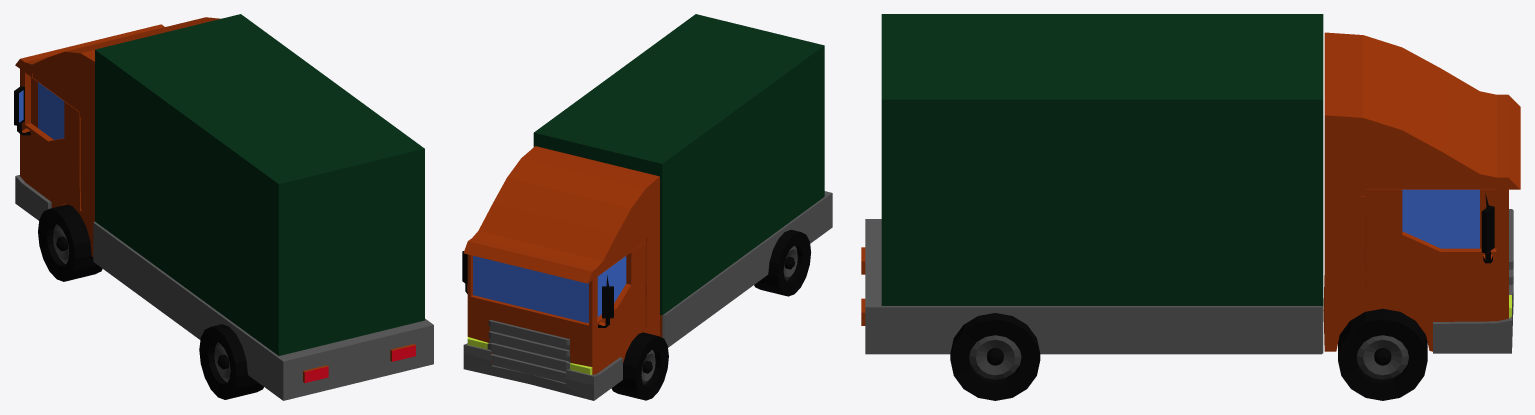
Rendered from truck_1.fbx.
3 views of the same model, side by side, from view 1: azimuth 30°, elevation 25°; view 2: azimuth 150°, elevation 25°; view 3: azimuth 270°, elevation 25° (orthographic). The views are drawn at different scales.
Parts seen in each view (by area): view 1: Truck5; view 2: Truck5; view 3: Truck5.
Boxes of the visible parts, x1=… form: Truck5: x1=14, y1=14, x2=433, y2=400; Truck5: x1=462, y1=14, x2=832, y2=400; Truck5: x1=861, y1=14, x2=1520, y2=400.
Size of the model in its own units: 92.1 by 124 by 253.
